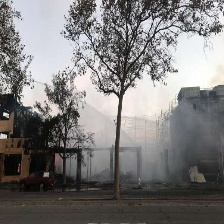smoke: (83, 105, 175, 182)
